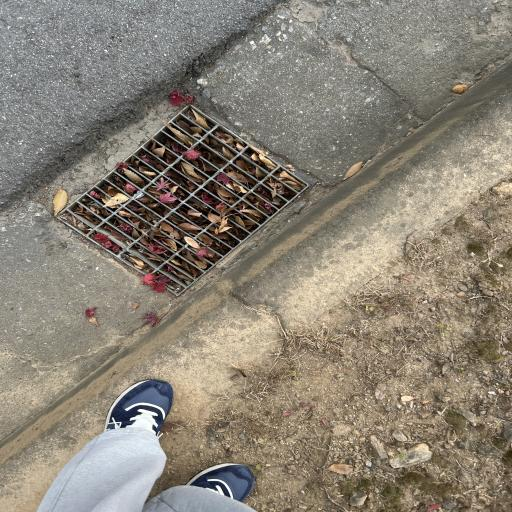debris: (119, 212, 217, 276), (89, 161, 143, 207), (167, 142, 204, 191), (208, 166, 252, 203), (128, 256, 177, 287), (235, 194, 272, 229), (143, 180, 183, 207), (267, 171, 303, 201), (207, 202, 231, 239), (176, 112, 207, 133), (75, 205, 107, 224), (166, 124, 194, 145), (91, 232, 118, 252), (131, 158, 155, 177), (252, 150, 276, 169), (236, 160, 264, 176), (103, 225, 128, 242), (129, 205, 156, 220), (216, 132, 241, 148), (140, 156, 163, 169), (195, 192, 211, 209), (151, 144, 168, 155), (176, 272, 192, 281), (217, 148, 233, 157), (56, 204, 66, 215), (186, 209, 196, 217), (202, 164, 213, 170), (206, 138, 217, 144), (164, 265, 173, 272), (69, 219, 79, 225), (81, 224, 87, 233)
drain: (53, 104, 310, 295)
